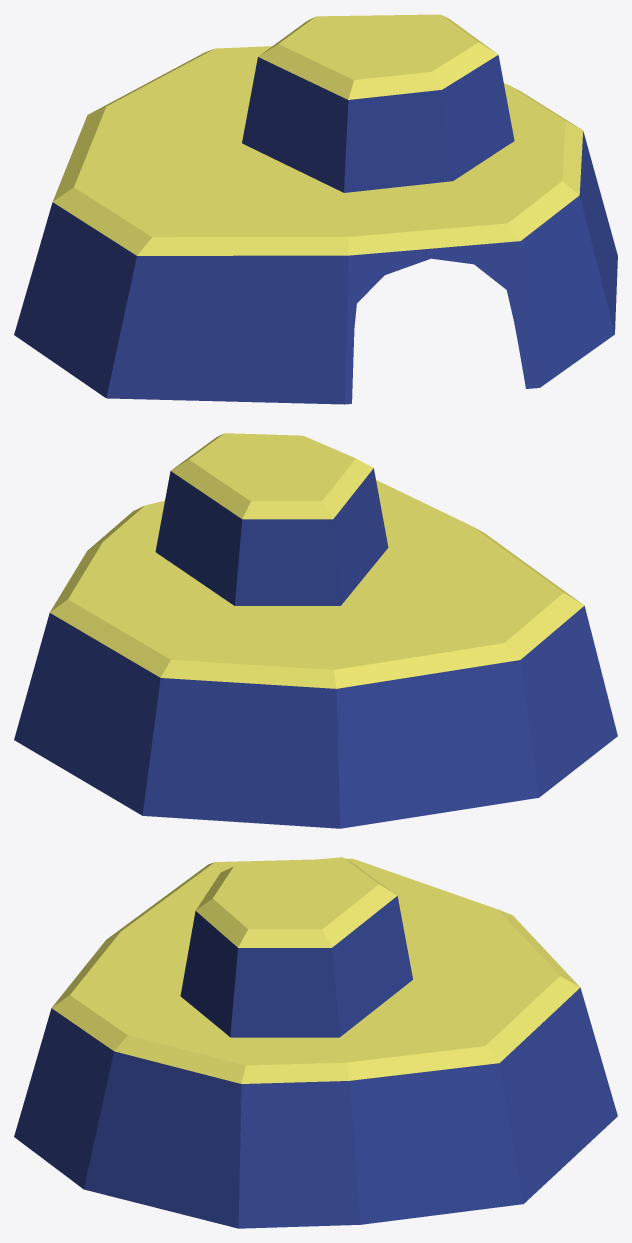
Rendered from caveA.glb.
3 views of the same model, one above another, from view 1: azimuth 30°, elevation 25°; view 2: azimuth 150°, elevation 25°; view 3: azimuth 270°, elevation 25° (orthographic). The views are drawn at different scales.
Parts seen in each view (by area): view 1: Cylinder; view 2: Cylinder; view 3: Cylinder.
Part boxes in pixels (box(x1,y1,x2,y2)): Cylinder: box(14, 14, 617, 404); Cylinder: box(14, 433, 617, 828); Cylinder: box(14, 857, 617, 1228).
Size of the model in its own units: 12.88 by 5.64 by 12.99.
